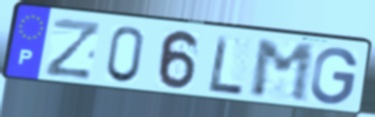0: (105, 25, 147, 85)
6: (156, 27, 201, 93)
G: (309, 46, 361, 107)
L: (207, 33, 245, 97)
M: (249, 39, 316, 105)
Z: (42, 16, 104, 81)
